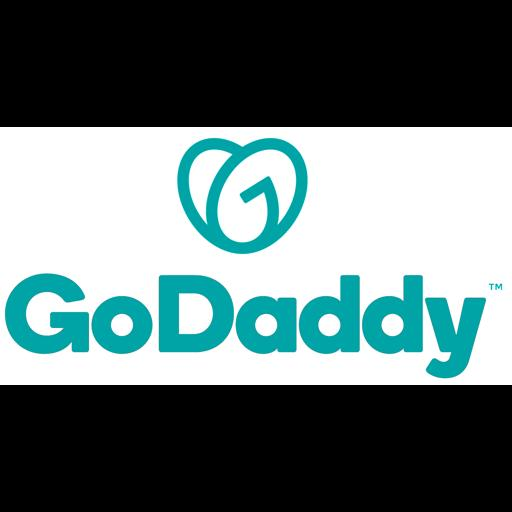GoDaddy: (0, 127, 512, 385)
